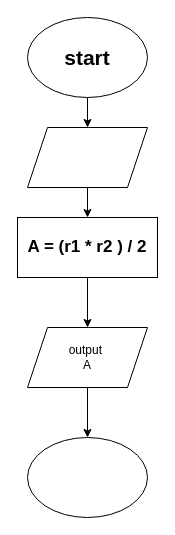
The diagram is 175 pixels wide and 535 high, and some of its shapes have lost their labels. Here are the shapes that lost their labels. From the top down, the centre of each, then its label:
At [87,157]: "Read r1 & r2".
At [87,477]: "End".
